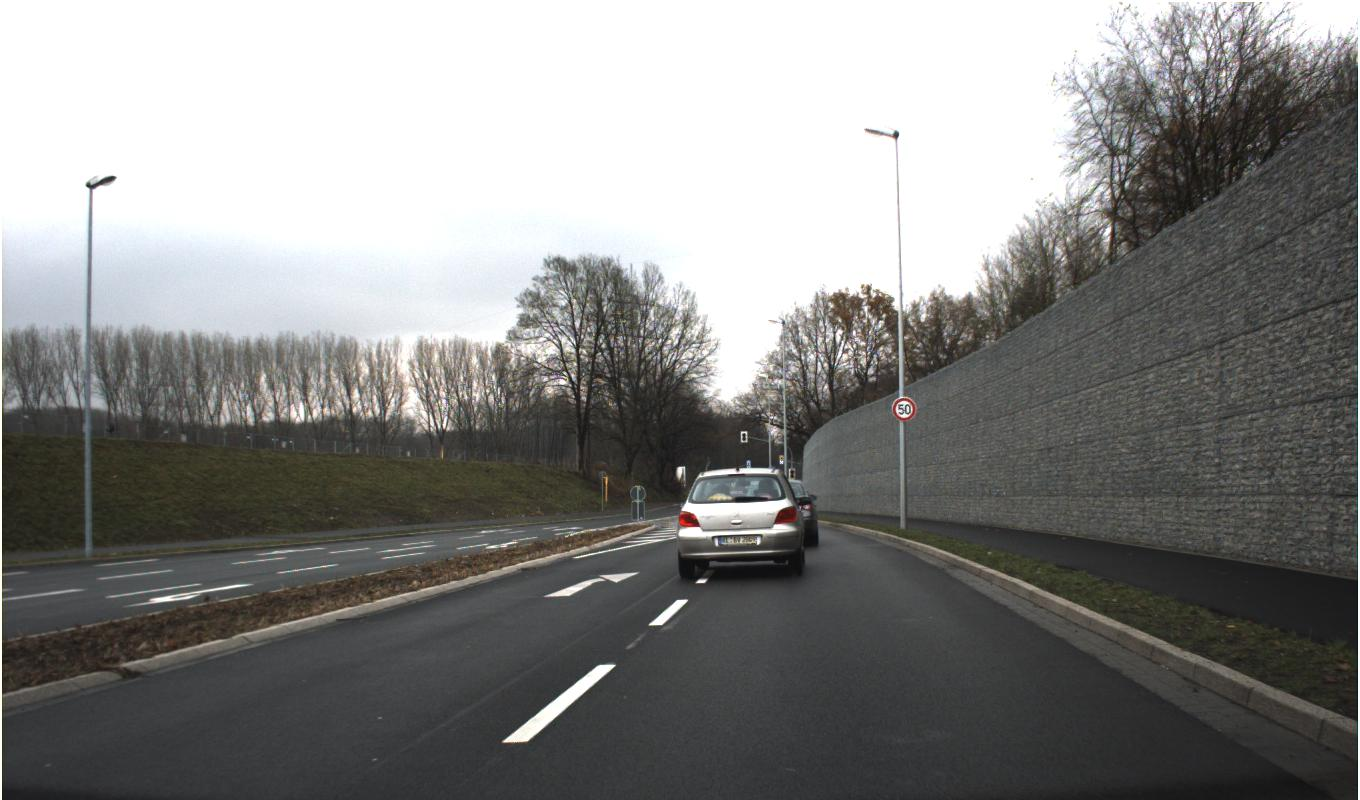prohibitory: (891, 396, 917, 422)
